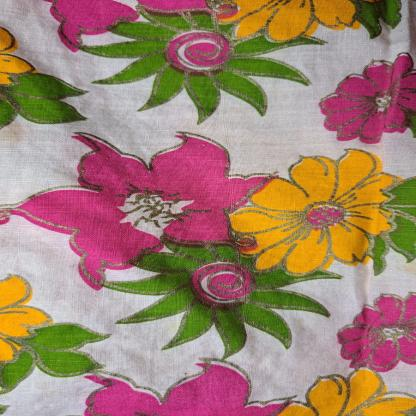spot: (0, 118, 33, 154)
